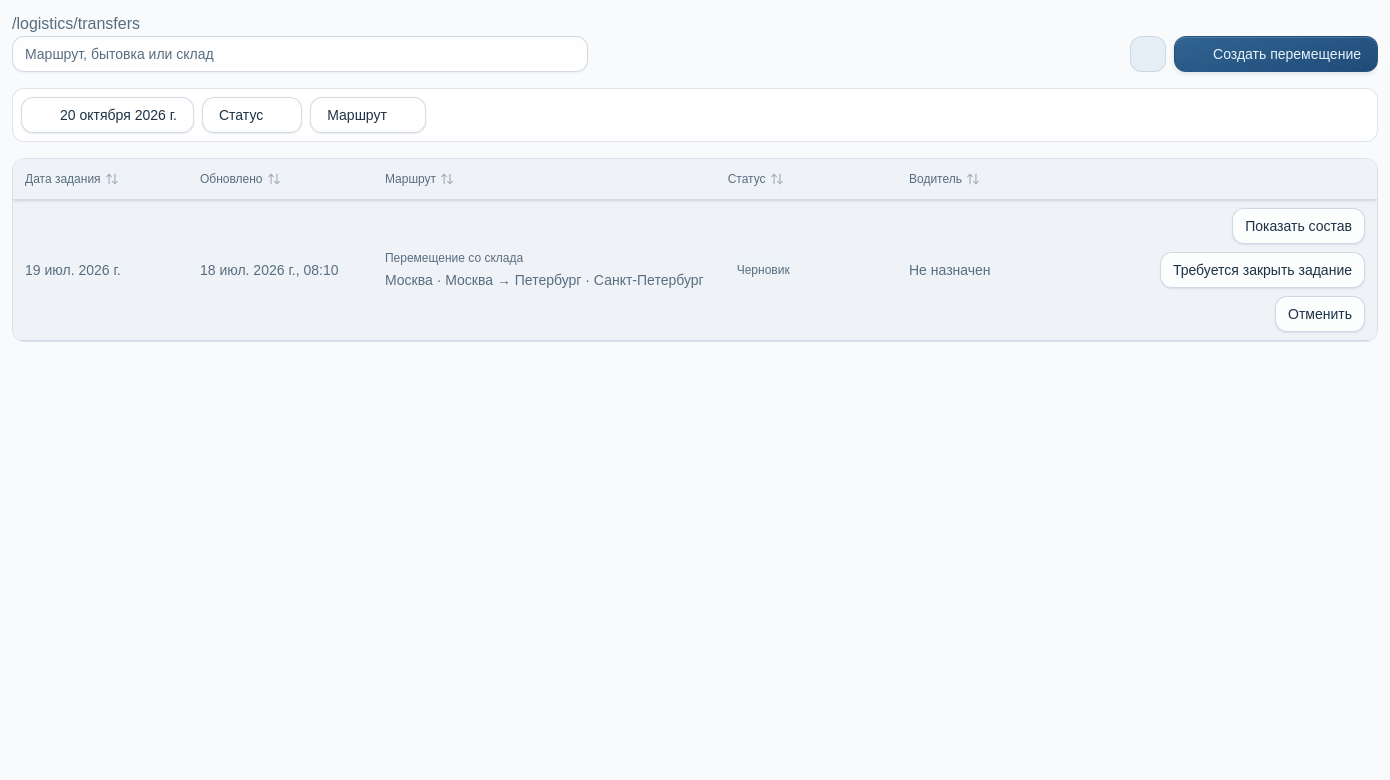
Scenario: WarehouseTransfersPage › shows current IN_TRANSFER cabin contents and linked task lines by cabin
The image size is (1390, 780).
Click the button "Показать состав".
click(1299, 226)  # box [1232,208,1365,244]
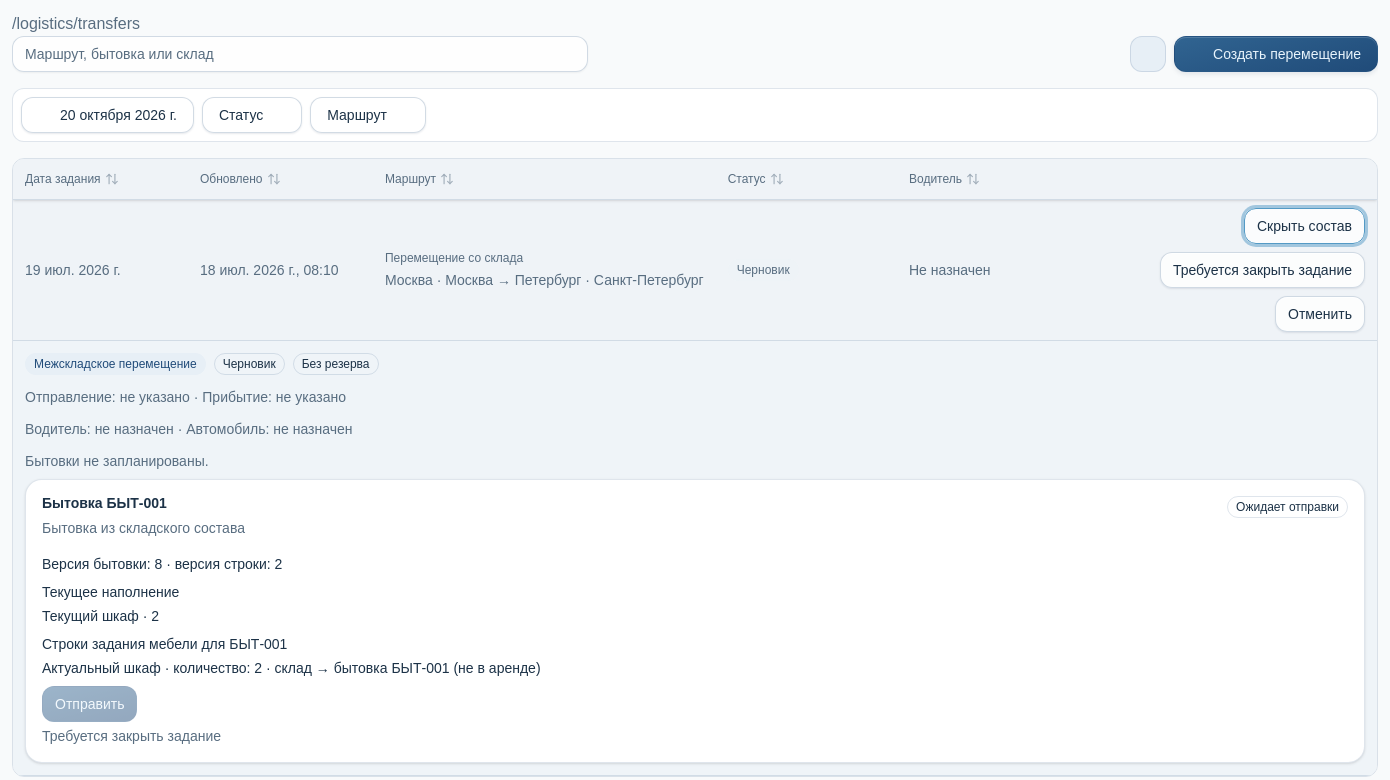
Check: the list item "Текущий шкаф · 2" is shown, box [42,608,159,624]
Check: the list item "Актуальный шкаф · количество: 2 · склад → бытовка БЫТ-001 (не в аренде)" is shown, box [42,660,541,676]
